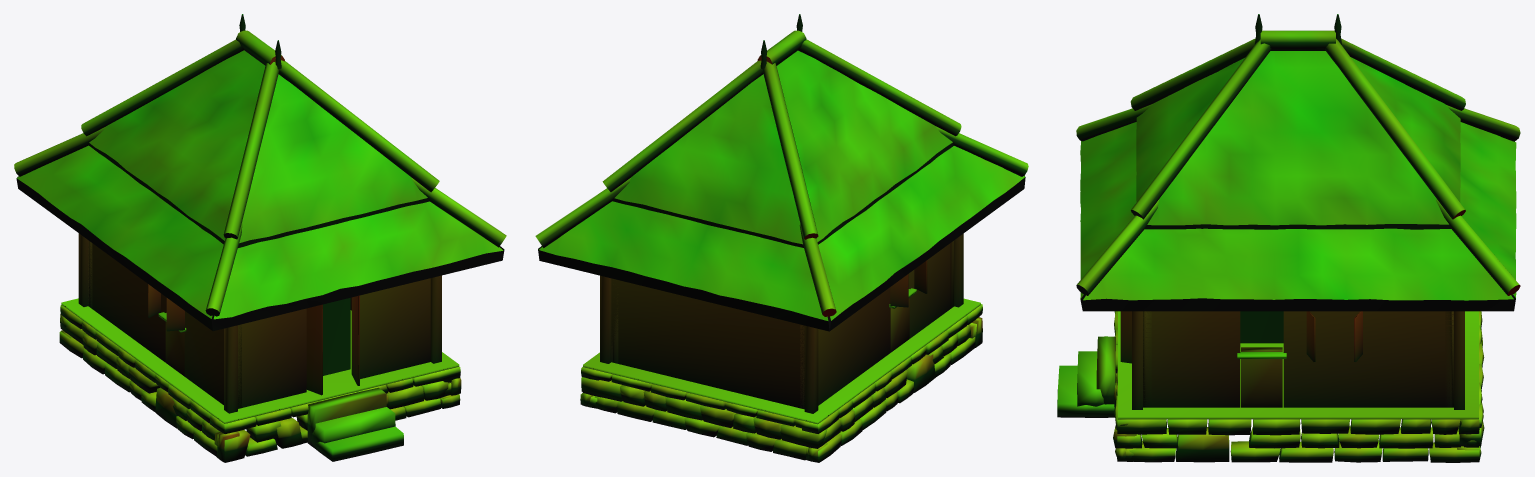
Rendered from house_pemakar_a.glb.
3 views of the same model, side by side, from view 1: azimuth 30°, elevation 25°; view 2: azimuth 150°, elevation 25°; view 3: azimuth 270°, elevation 25° (orthographic). The views are drawn at different scales.
Parts seen in each view (by area): view 1: house_pemakar_a; view 2: house_pemakar_a; view 3: house_pemakar_a.
Boxes of the visible parts, x1=… form: house_pemakar_a: x1=14, y1=14, x2=506, y2=462; house_pemakar_a: x1=535, y1=14, x2=1028, y2=462; house_pemakar_a: x1=1057, y1=14, x2=1520, y2=462.
Size of what is drawn, in the model's own units: 6.31 by 6.99 by 7.63.
